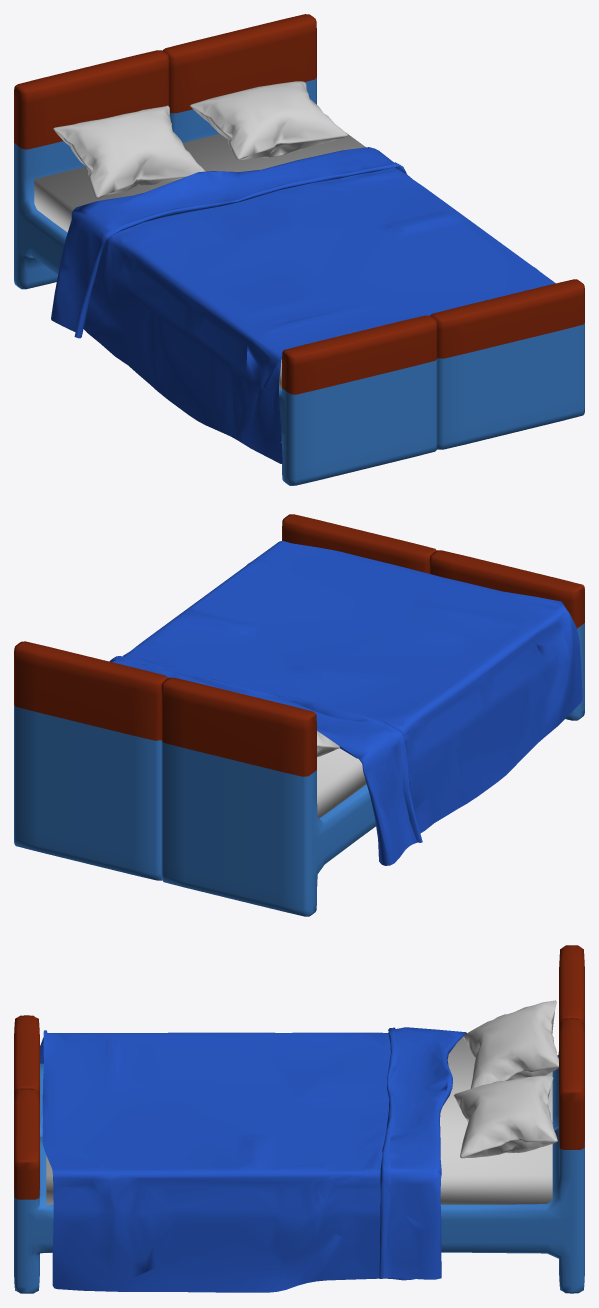
3 renders of one model, top to bottom at view 1: azimuth 30°, elevation 25°; view 2: azimuth 150°, elevation 25°; view 3: azimuth 270°, elevation 25°, orthographic.
Visible parts, largest first — view 1: Bed (×5); view 2: Bed (×4); view 3: Bed (×5).
Boxes of the visible parts, x1,y1,x2,y2 form: Bed (×5): [14, 14, 584, 485]; Bed (×4): [14, 514, 584, 916]; Bed (×5): [14, 945, 584, 1293].
Bounding box in the file's own units: 4.6 × 2.6 × 6.6.
